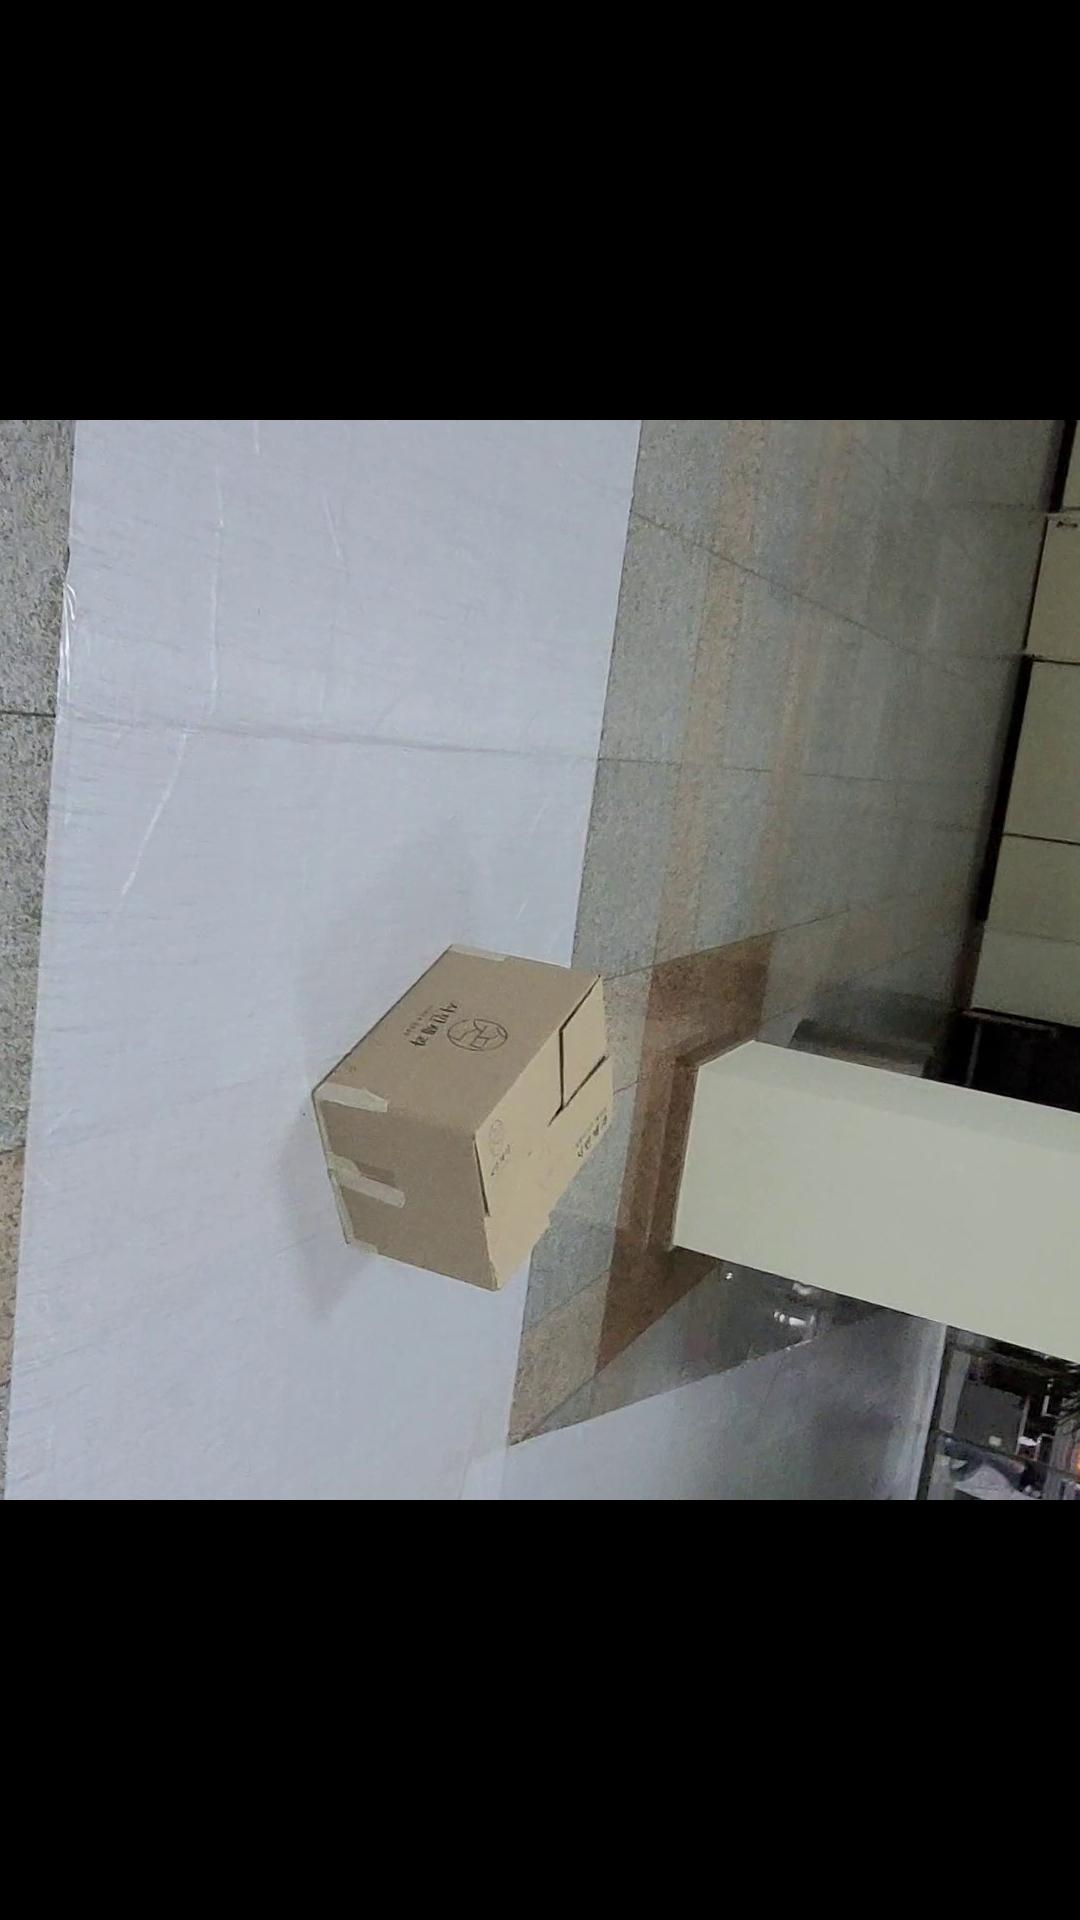Box: (273, 938, 650, 1302)
